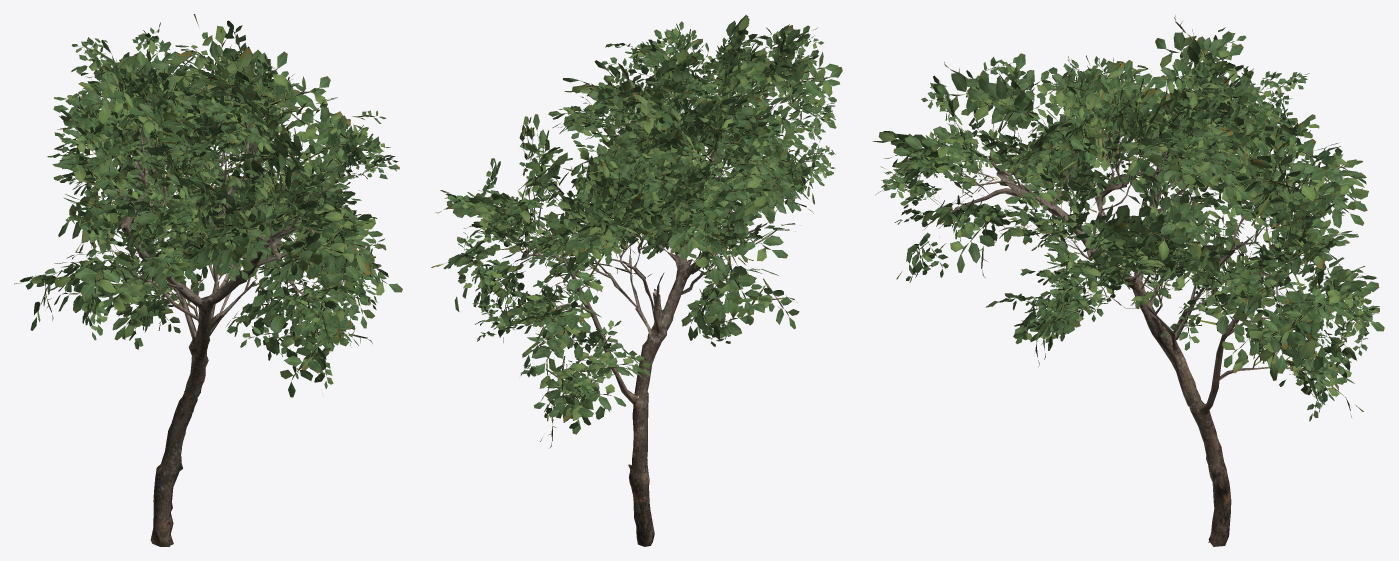
The model's file is tree_small.glb.
The picture shows the model from 3 angles, left to right: view 1: azimuth 30°, elevation 25°; view 2: azimuth 150°, elevation 25°; view 3: azimuth 270°, elevation 25°; orthographic projection. The views are drawn at different scales.
Visible parts, largest first — view 1: tree_small_02_LOD0.002, tree_small_02_LOD0, tree_small_02_LOD0.001; view 2: tree_small_02_LOD0.002, tree_small_02_LOD0, tree_small_02_LOD0.001; view 3: tree_small_02_LOD0.002, tree_small_02_LOD0, tree_small_02_LOD0.001.
Boxes of the visible parts, <box> form: tree_small_02_LOD0.002: <box>14,14,402,397</box>; tree_small_02_LOD0: <box>102,161,299,546</box>; tree_small_02_LOD0.001: <box>82,88,351,347</box>; tree_small_02_LOD0.002: <box>431,15,842,448</box>; tree_small_02_LOD0: <box>550,135,735,546</box>; tree_small_02_LOD0.001: <box>502,62,812,377</box>; tree_small_02_LOD0.002: <box>872,15,1384,421</box>; tree_small_02_LOD0: <box>996,134,1263,546</box>; tree_small_02_LOD0.001: <box>933,88,1345,382</box>.
Size of the model in its own units: 3.92 by 5.8 by 5.47.
3 materials, 3 textured.
